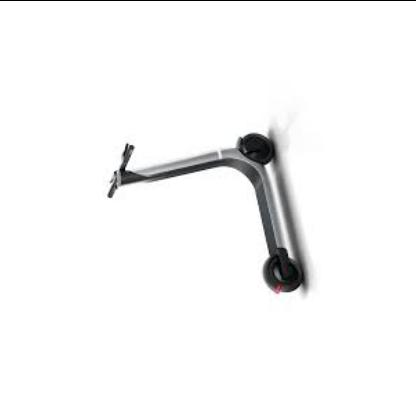bike: (106, 131, 307, 296)
